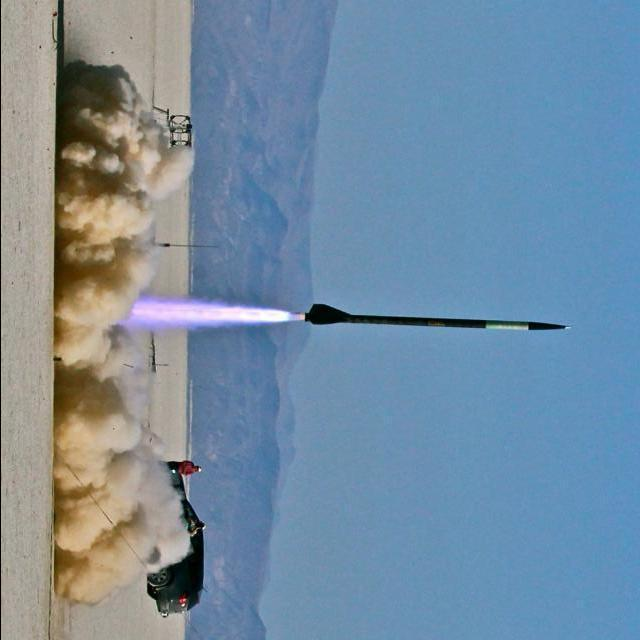missile: (297, 295, 574, 337)
